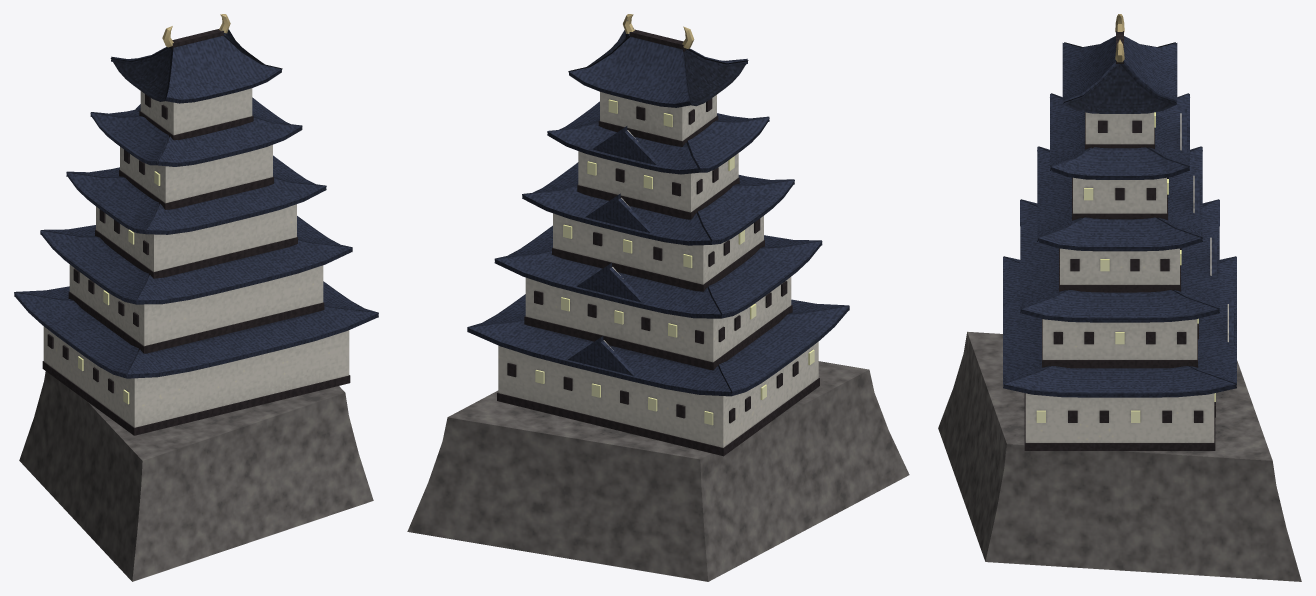
The model's file is castle.fbx.
The picture shows the model from 3 angles, left to right: view 1: azimuth 30°, elevation 25°; view 2: azimuth 150°, elevation 25°; view 3: azimuth 270°, elevation 25°; orthographic projection. The views are drawn at different scales.
Visible parts, largest first — view 1: castle; view 2: castle, castle_glow; view 3: castle, castle_glow.
Part boxes in pixels (box(x1,y1,x2,y2)): castle: box(14, 14, 378, 581); castle: box(407, 14, 909, 581); castle_glow: box(535, 99, 814, 425); castle: box(938, 14, 1301, 581); castle_glow: box(1036, 112, 1215, 422).
Bounding box in the file's own units: 4243 × 6150 × 4243.
Materials: 1 (1 with a texture image).
